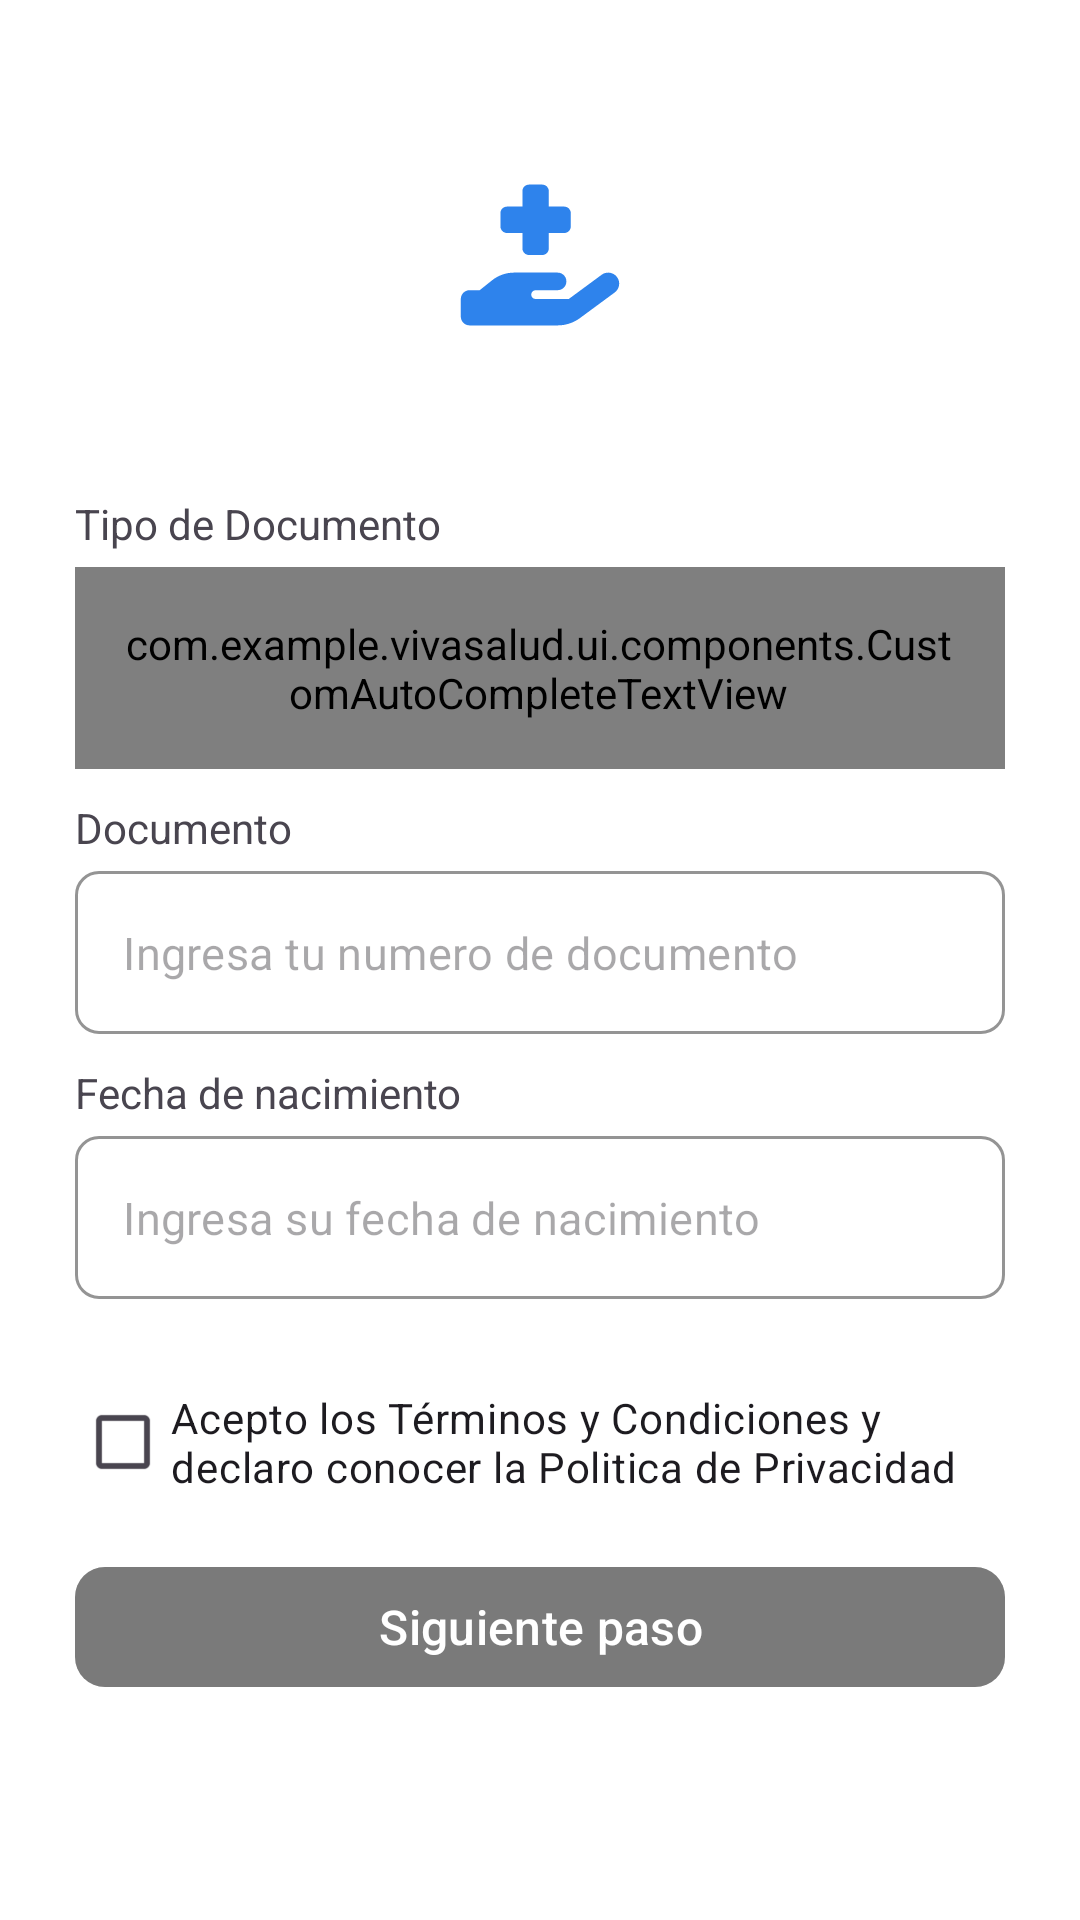

Icons on this 1080 x 1920 Android screen, each with its box as region(x1, y1, x2, y2):
Icono Viva Salud: region(460, 184, 620, 326)
